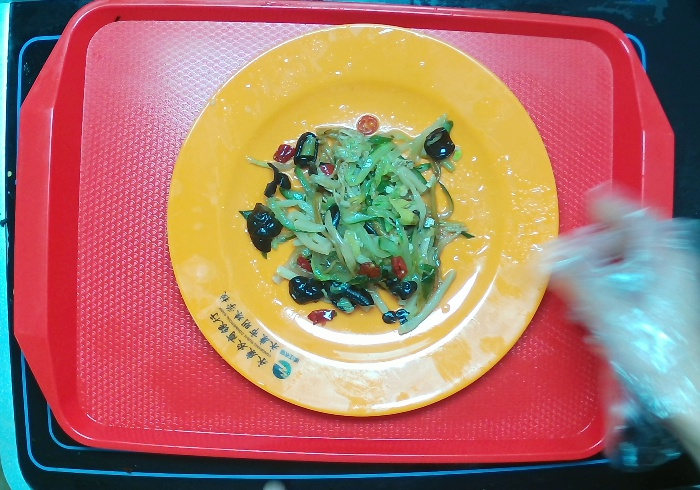YKMZ-Ju_Se_Mian_Pan: (161, 13, 568, 421)
